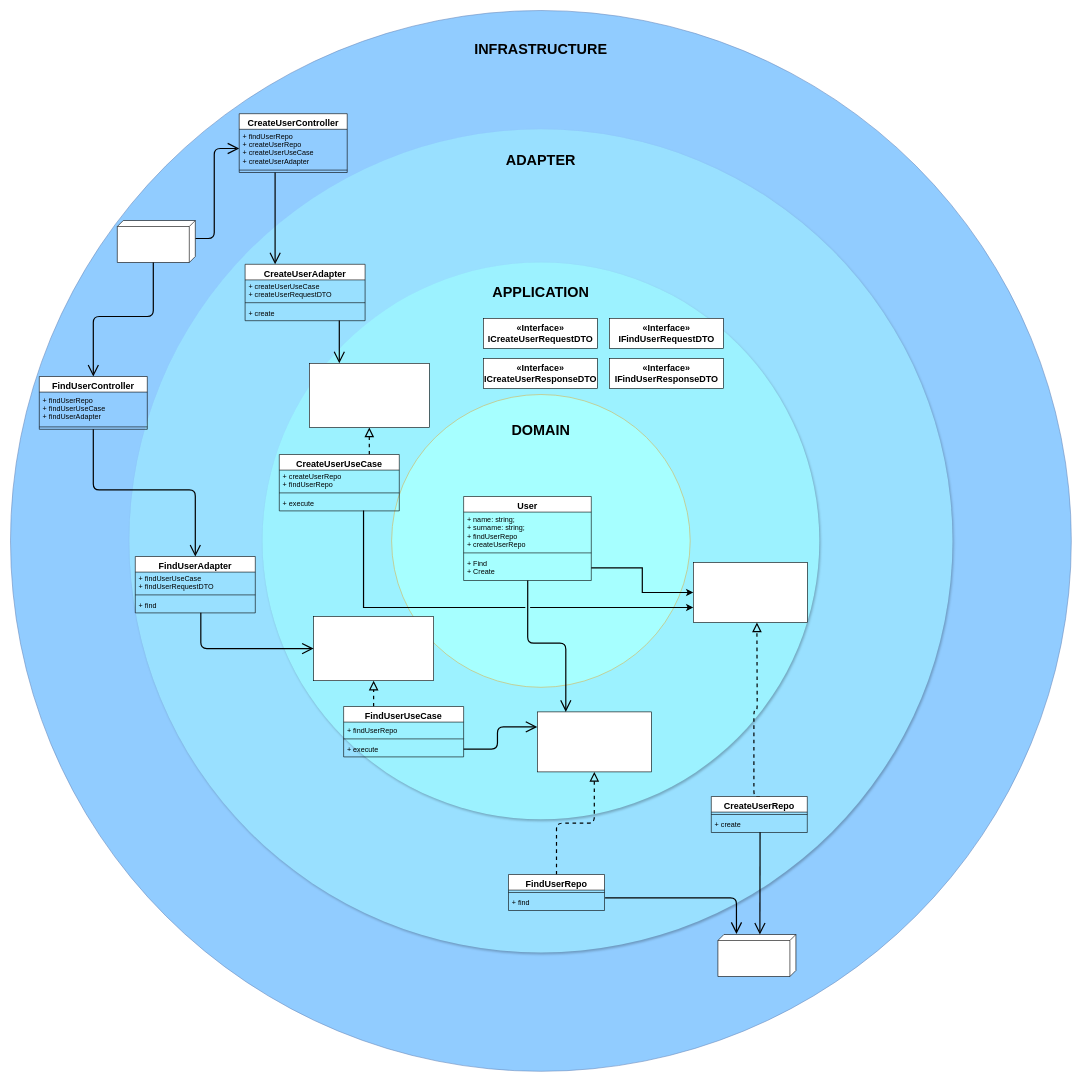
Some shapes in this 1082 by 1082 pixel diagram are drawn without their labels. The centre of each missing label's shape, as x and y in pixels:
"<<Interface>> ICreateUserRepo + create" belongs at point 750,592.
"<<Interface>> ICreateUserUseCase + createUserRepo + execute" belongs at point 369,395.
"<<Interface>> IFindUserRepo + find" belongs at point 594,741.
"<<Interface>> IFindUserUseCase + findUserRepo + execute" belongs at point 373,648.
"File System" belongs at point 756,955.
"HTTP Server" belongs at point 156,241.
